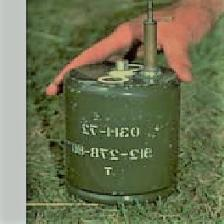OZM-72: (68, 54, 174, 206)
